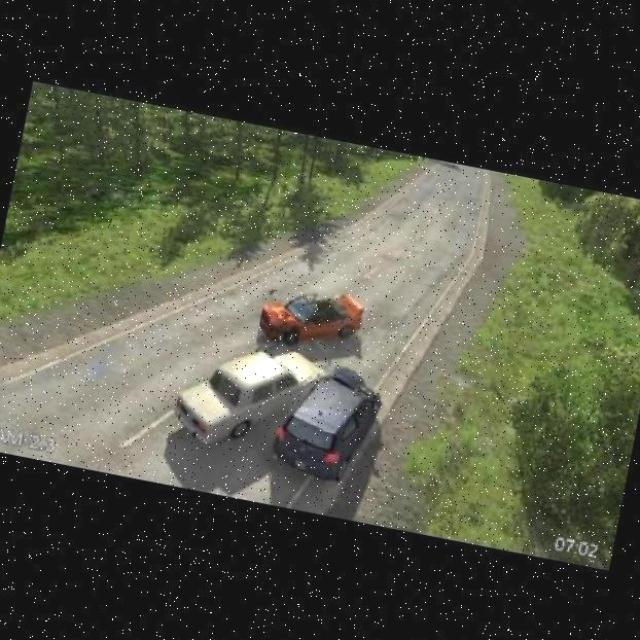accident: (194, 325, 408, 506)
